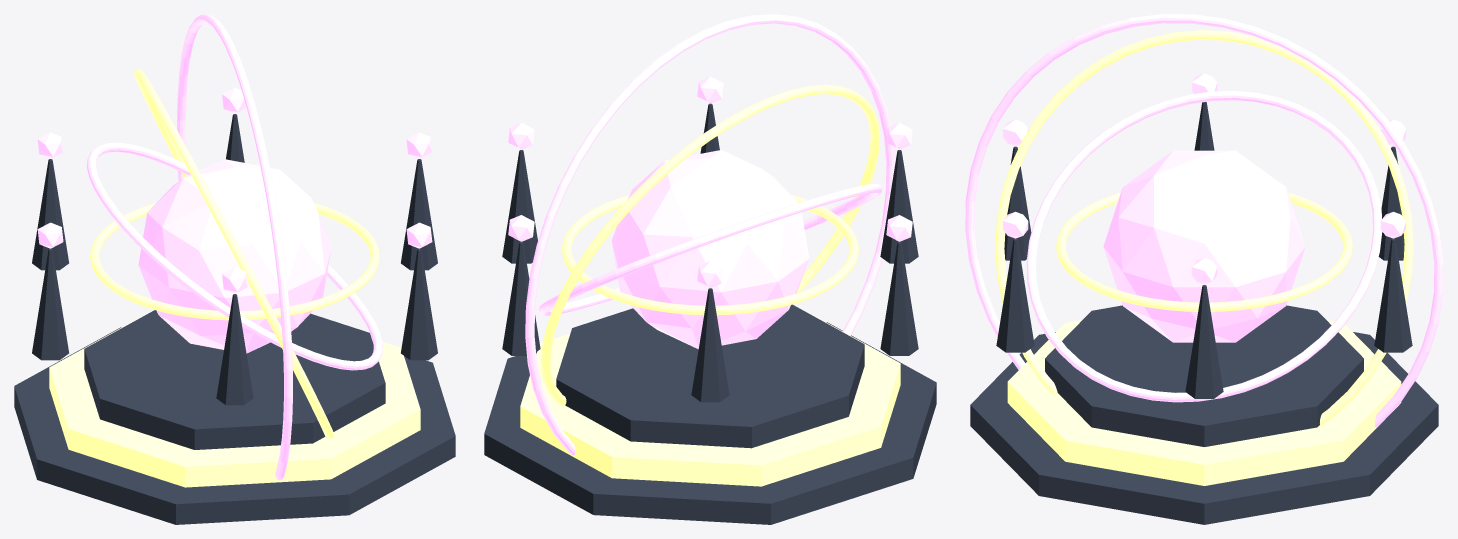
The model's file is gpu-blender-v6.glb.
3 views of the same model, side by side, from view 1: azimuth 30°, elevation 25°; view 2: azimuth 150°, elevation 25°; view 3: azimuth 270°, elevation 25° (orthographic). The views are drawn at different scales.
Parts seen in each view (by area): view 1: Cylinder.002, Cylinder, SovereignCore_agent-voice-call, Cylinder.001, Torus.003, Torus.001, Torus.002, Torus, Cone.004, Cone.003, Cone.005, Cone.002 (+7 smaller); view 2: Cylinder.002, SovereignCore_agent-voice-call, Cylinder, Cylinder.001, Torus.003, Torus.002, Torus.001, Torus, Cone.002, Cone.003, Cone.001, Cone.004 (+7 smaller); view 3: SovereignCore_agent-voice-call, Cylinder.002, Cylinder, Cylinder.001, Torus.003, Torus.001, Torus.002, Torus, Cone.001, Cone.005, Cone, Cone.004 (+3 smaller).
Boxes of the visible parts, <box> form: Cylinder.002: <box>84,310,385,449</box>; Cylinder: <box>14,327,455,524</box>; SovereignCore_agent-voice-call: <box>138,159,331,353</box>; Cylinder.001: <box>49,318,420,487</box>; Torus.003: <box>177,14,292,480</box>; Torus.001: <box>87,142,382,370</box>; Torus.002: <box>134,69,334,438</box>; Torus: <box>90,203,379,320</box>; Cone.004: <box>216,294,253,405</box>; Cone.003: <box>32,249,68,360</box>; Cone.005: <box>401,249,437,360</box>; Cone.002: <box>32,159,68,270</box>; Cylinder.002: <box>556,304,864,448</box>; SovereignCore_agent-voice-call: <box>611,150,809,349</box>; Cylinder: <box>484,322,936,524</box>; Cylinder.001: <box>520,313,900,486</box>; Torus.003: <box>525,14,895,455</box>; Torus.002: <box>541,84,879,406</box>; Torus.001: <box>539,183,881,315</box>; Torus: <box>562,195,858,315</box>; Cone.002: <box>691,288,729,402</box>; Cone.003: <box>880,242,918,355</box>; Cone.001: <box>502,242,540,355</box>; Cone.004: <box>880,150,918,263</box>; SovereignCore_agent-voice-call: <box>1103,150,1305,342</box>; Cylinder.002: <box>1045,305,1363,446</box>; Cylinder: <box>970,332,1438,524</box>; Cylinder.001: <box>1007,320,1401,485</box>; Torus.003: <box>965,14,1443,427</box>; Torus.001: <box>1026,91,1382,402</box>; Torus.002: <box>995,30,1413,426</box>; Torus: <box>1056,192,1352,311</box>; Cone.001: <box>1374,239,1412,352</box>; Cone.005: <box>996,239,1034,352</box>; Cone: <box>1185,285,1223,398</box>; Cone.004: <box>1004,146,1031,260</box>.
Bounding box in the file's own units: 4.41 × 4.7 × 4.49.
